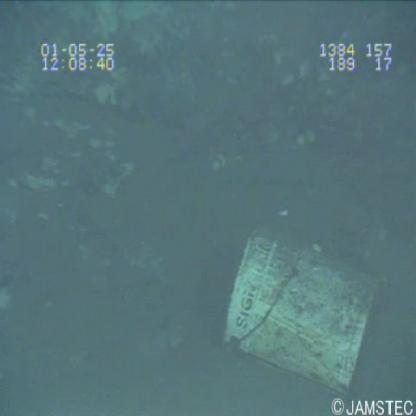Rác: (219, 218, 389, 400)
